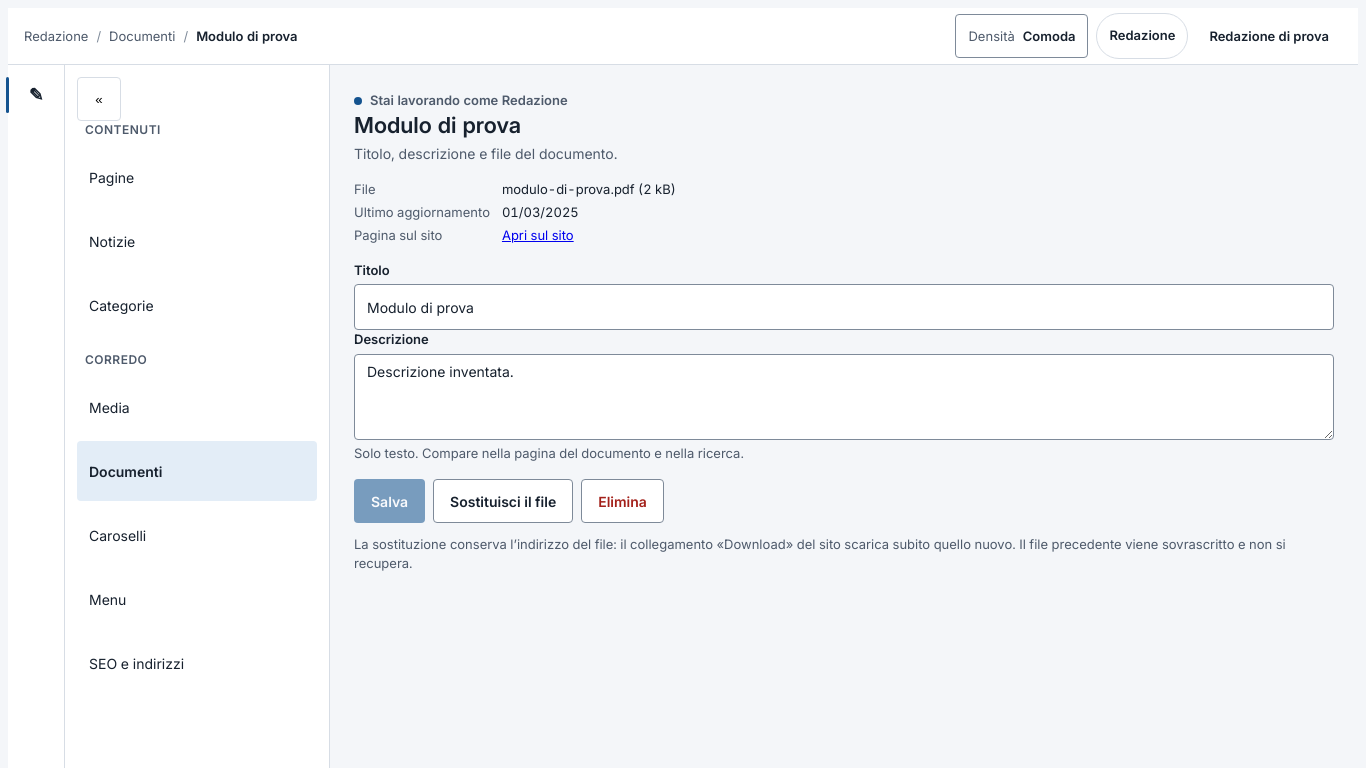
Test: «Elimina» nella scheda › chiede di scrivere il titolo, poi elimina e torna all’elenco
Later steps or results of the test are not shown.
Expected: the field showing "Modulo di prova" is shown, [354,284,1334,330]
Click the button "Elimina" at (623, 501), box [581,479,664,523]
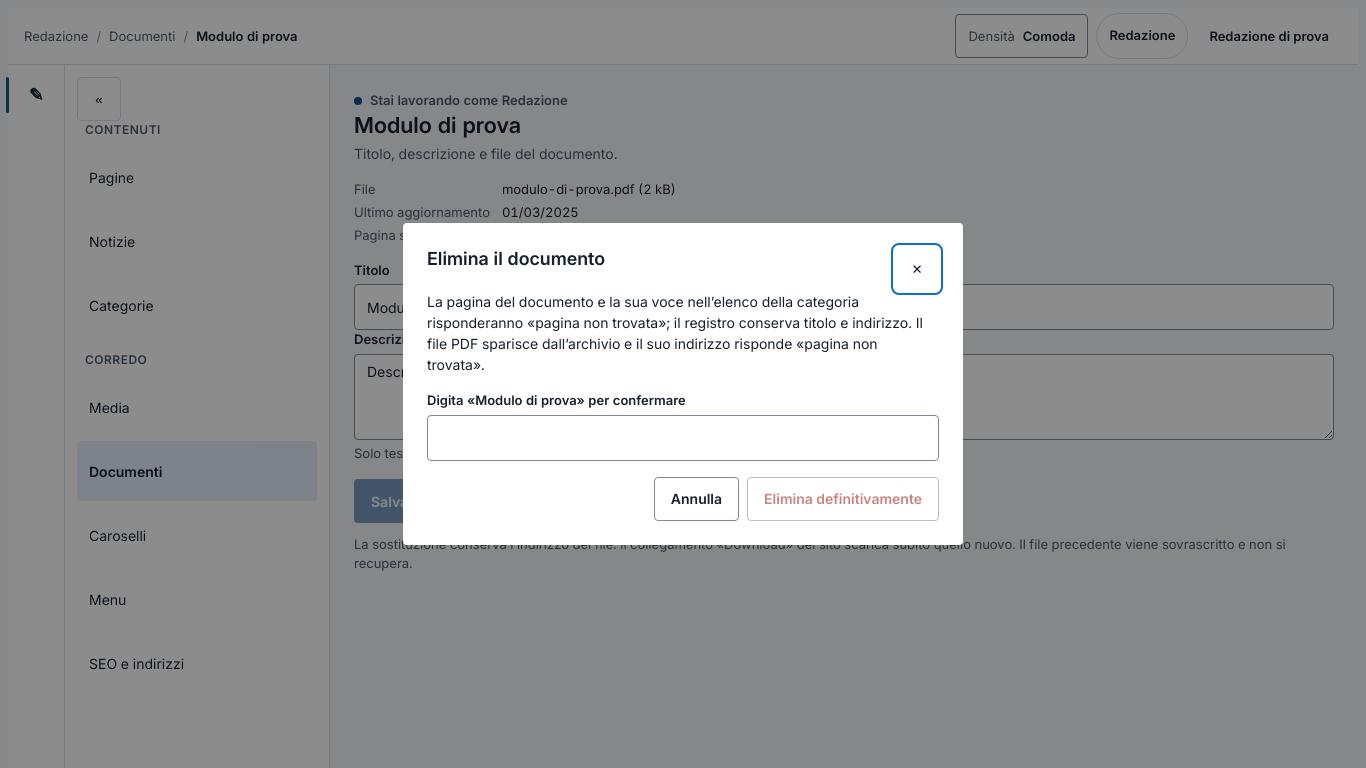
Expected: the text "Il file PDF sparisce dall’archivio" is shown, [427,293,923,373]
Expected: the button "Elimina definitivamente" is disabled, [747,477,939,521]
